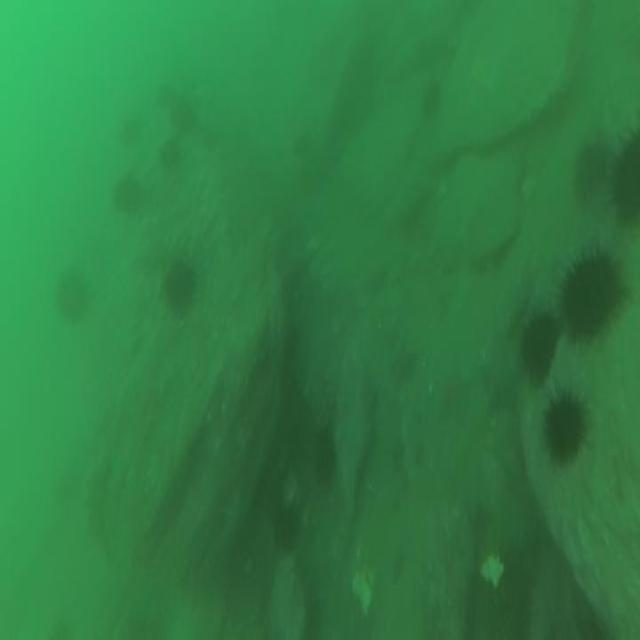echinus: (556, 235, 624, 340), (538, 379, 586, 460), (522, 292, 564, 384), (604, 133, 640, 229), (159, 256, 201, 319), (51, 268, 88, 326), (271, 490, 301, 559), (108, 172, 146, 218), (167, 93, 197, 141), (311, 430, 336, 487), (419, 68, 444, 122), (157, 131, 180, 177)
